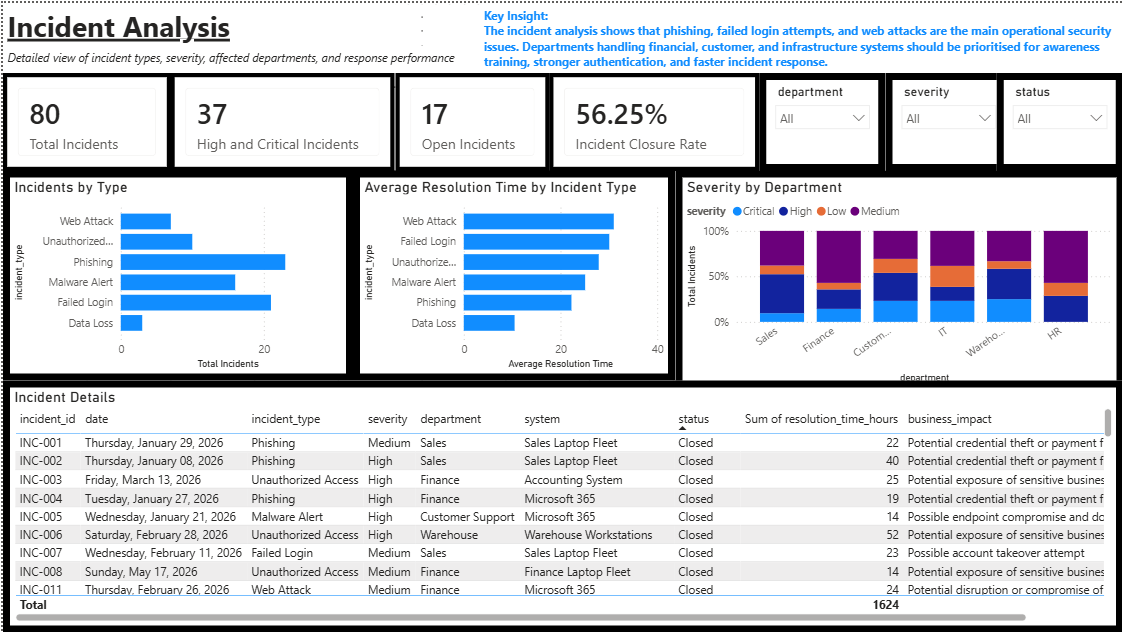

This screenshot's page, from the dashboard's own definition file:
{"tool":"powerbi","page":{"name":"Incident Analysis","canvas":[1280,720],"ordinal":2},"visuals":[{"type":"textbox","box":[0,0,448,64],"z":0},{"type":"textbox","box":[0,48,640,32],"z":1000},{"type":"clusteredBarChart","title":"Incidents by Type","fields":{"Category":["Incidents.incident_type"],"Y":["Incidents.Total Incidents"]},"box":[0,192,400,240],"z":2000},{"type":"hundredPercentStackedColumnChart","title":"Severity by Department","fields":{"Category":["Incidents.department"],"Y":["Incidents.Total Incidents"],"Series":["Incidents.severity"]},"box":[768,192,512,256],"z":3000},{"type":"clusteredBarChart","title":"Average Resolution Time by Incident Type","fields":{"Category":["Incidents.incident_type"],"Y":["Incidents.Average Resolution Time"]},"box":[400,192,368,240],"z":4000},{"type":"tableEx","title":"Incident Details","fields":{"Values":["Incidents.incident_id","Incidents.date","Incidents.incident_type","Incidents.severity","Incidents.department","Incidents.system","Incidents.status","Sum(Incidents.resolution_time_hours)","Incidents.business_impact"]},"box":[0,432,1280,288],"z":5000},{"type":"cardVisual","fields":{"Data":["Incidents.Total Incidents"]},"box":[0,80,192,112],"z":6000},{"type":"cardVisual","fields":{"Data":["Incidents.High and Critical Incidents"]},"box":[192,80,256,112],"z":7000},{"type":"cardVisual","fields":{"Data":["Incidents.Open Incidents"]},"box":[448,80,176,112],"z":8000},{"type":"cardVisual","fields":{"Data":["Incidents.Incident Closure Rate"]},"box":[624,80,240,112],"z":9000},{"type":"slicer","fields":{"Values":["Incidents.severity"]},"box":[1008,80,144,112],"z":10000},{"type":"slicer","fields":{"Values":["Incidents.department"]},"box":[864,80,144,112],"z":11000},{"type":"slicer","fields":{"Values":["Incidents.status"]},"box":[1136,80,144,112],"z":12000},{"type":"textbox","box":[544,0,736,80],"z":13000}]}

Visuals, with their boxes in screenshot pixels (x1, y1, x2, y2), scaled from the page's 1280x720 canvas onto the 1122x632 screenshot:
textbox: detection(0, 0, 393, 56)
textbox: detection(0, 42, 561, 70)
"Incidents by Type" clusteredBarChart: detection(0, 169, 351, 379)
"Severity by Department" hundredPercentStackedColumnChart: detection(673, 169, 1121, 393)
"Average Resolution Time by Incident Type" clusteredBarChart: detection(351, 169, 673, 379)
"Incident Details" tableEx: detection(0, 379, 1121, 631)
cardVisual - Incidents.Total Incidents: detection(0, 70, 168, 169)
cardVisual - Incidents.High and Critical Incidents: detection(168, 70, 393, 169)
cardVisual - Incidents.Open Incidents: detection(393, 70, 547, 169)
cardVisual - Incidents.Incident Closure Rate: detection(547, 70, 757, 169)
slicer - Incidents.severity: detection(884, 70, 1010, 169)
slicer - Incidents.department: detection(757, 70, 884, 169)
slicer - Incidents.status: detection(996, 70, 1121, 169)
textbox: detection(477, 0, 1121, 70)
